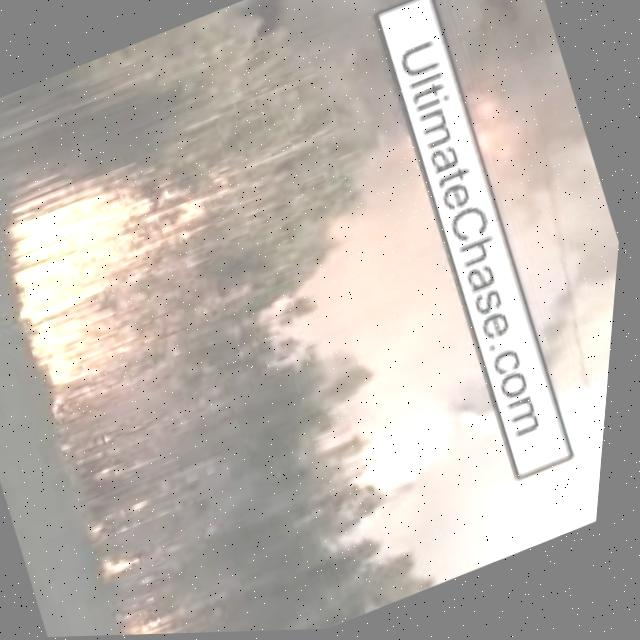Fire: (0, 129, 269, 421), (83, 485, 193, 587), (127, 603, 210, 636)
Smoke: (192, 0, 585, 604), (377, 0, 640, 426)
